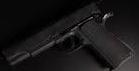gun: (1, 1, 139, 71)
